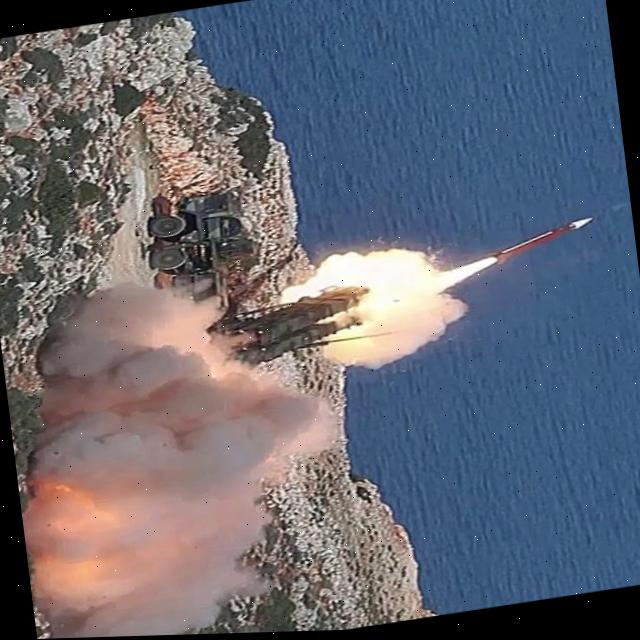missile: (481, 213, 598, 278)
